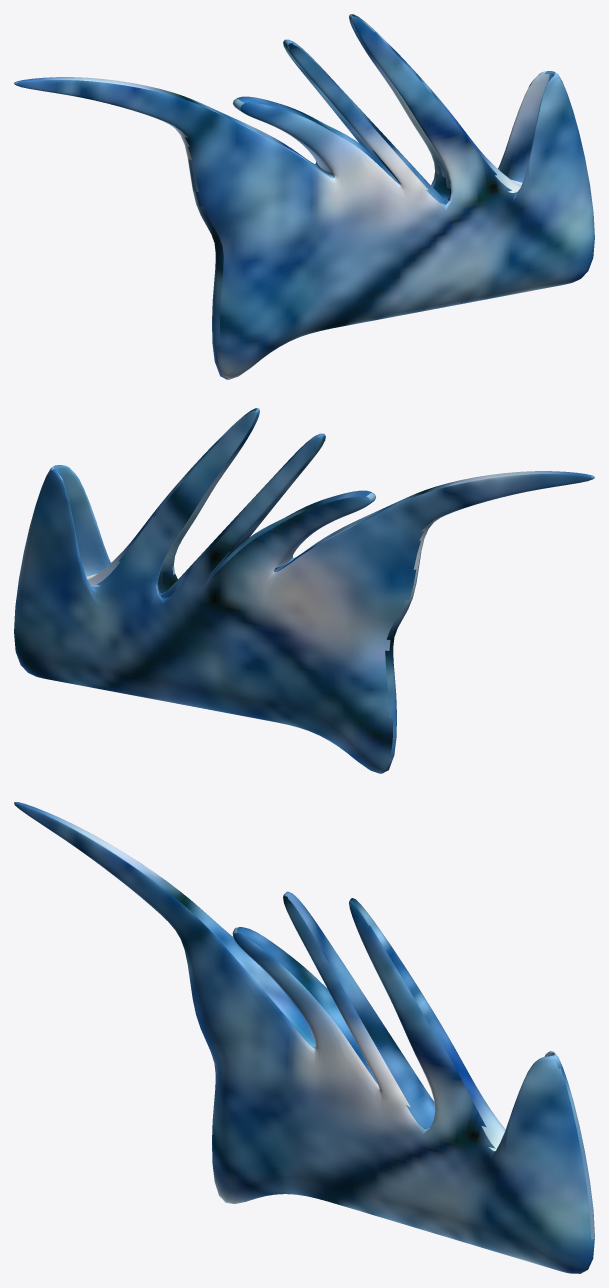
Rendered from Fin2.fbx.
3 views of the same model, one above another, from view 1: azimuth 30°, elevation 25°; view 2: azimuth 150°, elevation 25°; view 3: azimuth 330°, elevation 25° (orthographic).
Visible parts, largest first — view 1: Fin2; view 2: Fin2; view 3: Fin2.
Boxes of the visible parts, <box> form: Fin2: <box>14,14,594,379</box>; Fin2: <box>14,408,594,773</box>; Fin2: <box>14,802,594,1273</box>.
Size of the model in its own units: 131 by 75.4 by 9.9.
